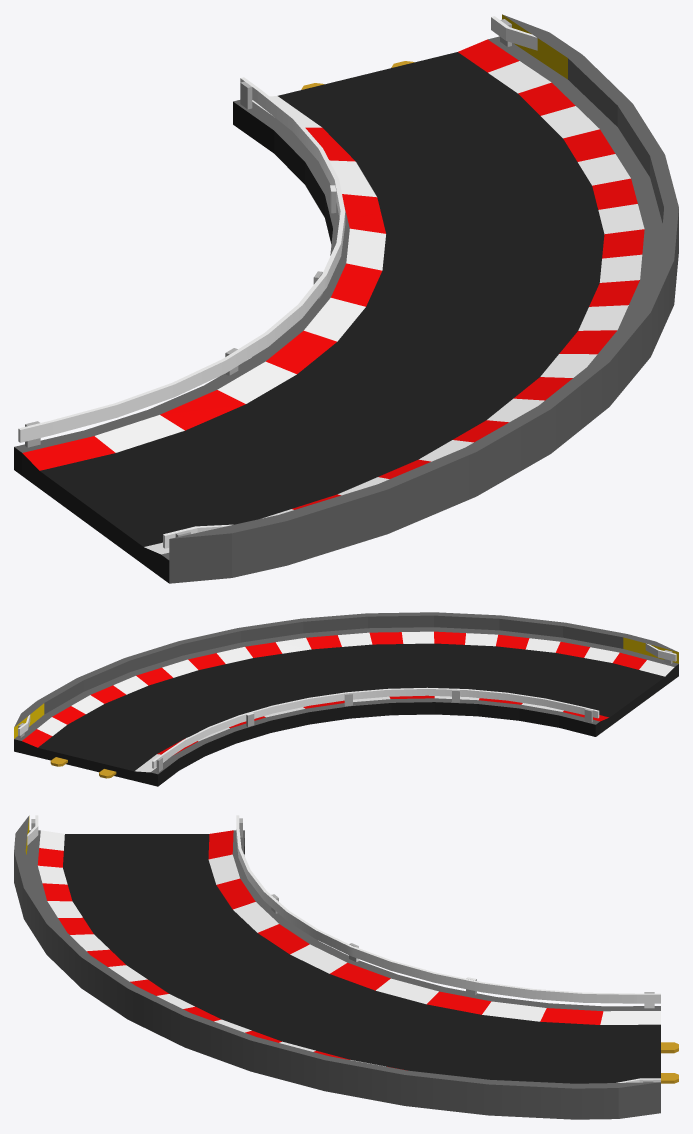
The picture shows the model from 3 angles, top to bottom: view 1: azimuth 30°, elevation 25°; view 2: azimuth 150°, elevation 25°; view 3: azimuth 270°, elevation 25°; orthographic projection. The views are drawn at different scales.
Visible parts, largest first — view 1: Group1; view 2: Group1; view 3: Group1.
Boxes of the visible parts, box(x1,y1,x2,y2) form: Group1: box(14, 14, 678, 583); Group1: box(14, 612, 678, 786); Group1: box(14, 815, 678, 1119).
Size of the model in its own units: 38.69 by 2.05 by 39.77.
